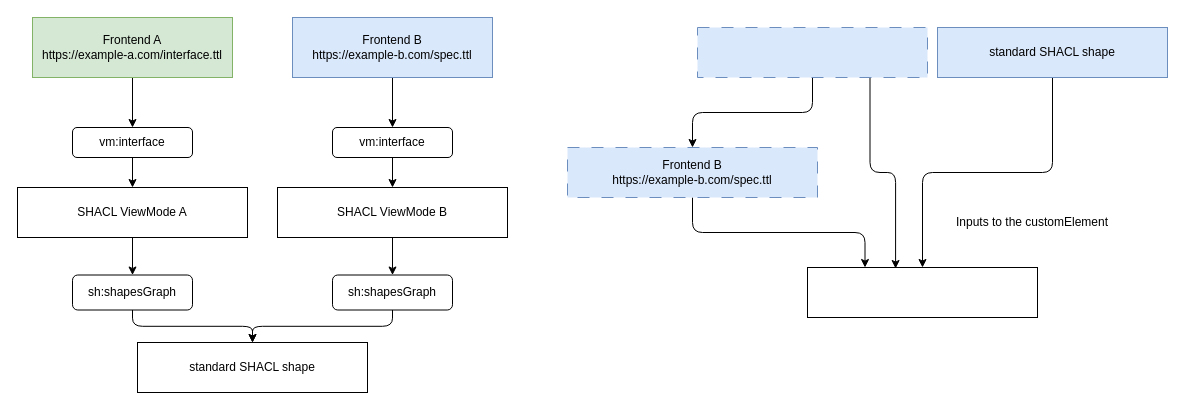
The diagram is 1185 pixels wide and 410 high, and some of its shapes have lost their labels. Each missing label, with the box of its shape:
SHACL Editor customElement: (806, 266, 1038, 318)
SHACL ViewMode A (optional for create): (696, 26, 928, 78)
